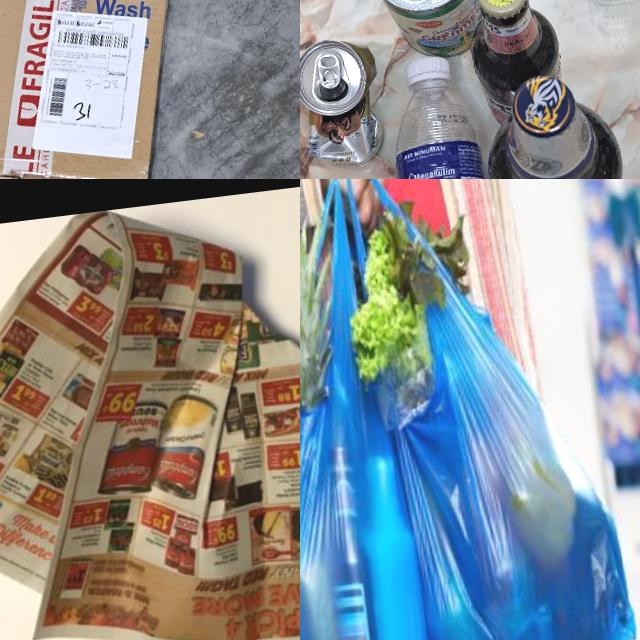aba de lata: (316, 51, 343, 89)
garrafa de vidro: (477, 66, 632, 179), (461, 0, 567, 129)
garrafa plástica: (384, 76, 509, 179)
lata: (300, 35, 388, 173), (366, 0, 490, 65)
papel: (0, 179, 300, 640)
papelão: (0, 0, 241, 179)
sacola plástica: (341, 179, 640, 640), (300, 192, 461, 640)
tampa plástica: (404, 54, 452, 86)
